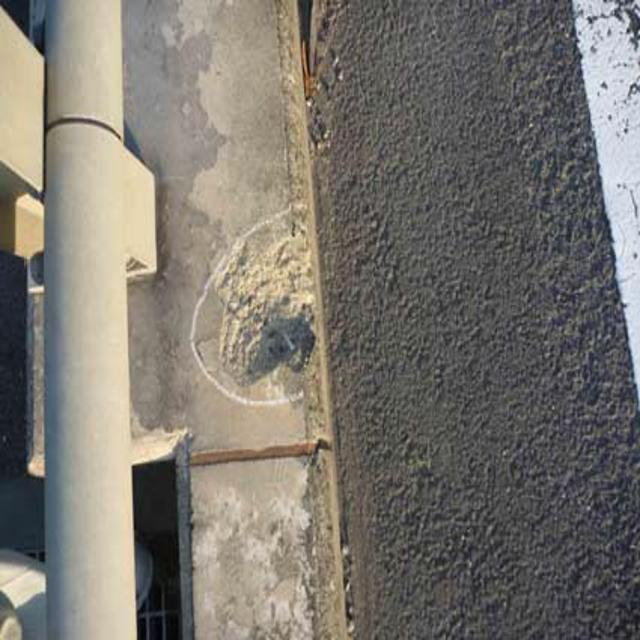spalling: (204, 215, 337, 434)
